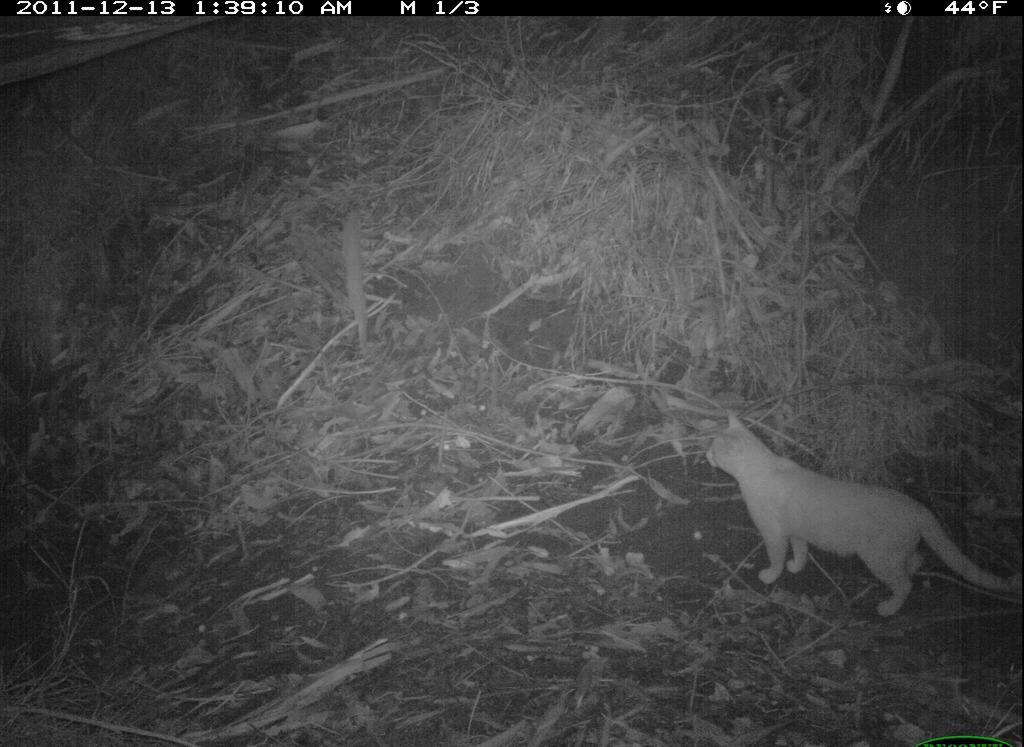cat: (690, 404, 1023, 616)
